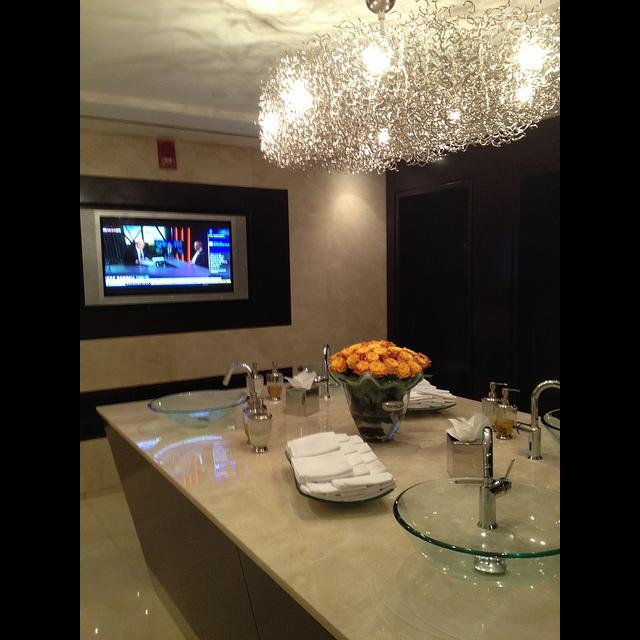Flat-Panel-TV: (83, 213, 250, 307)
